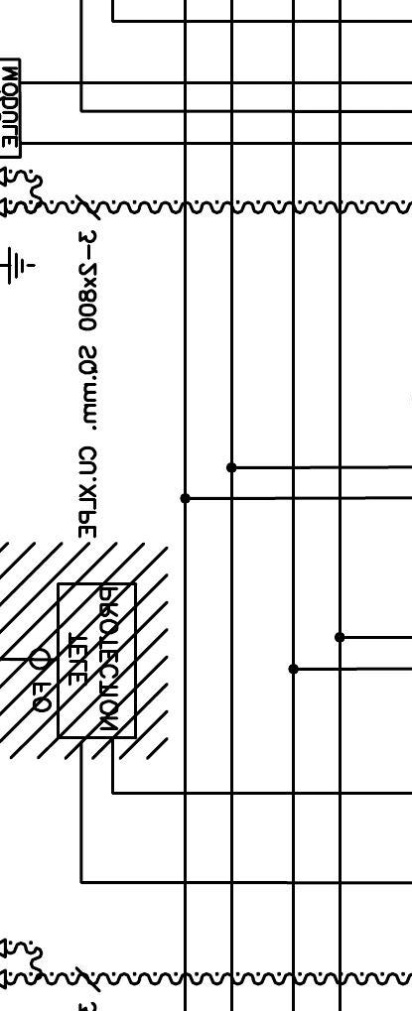tele_protection: (54, 580, 140, 742)
